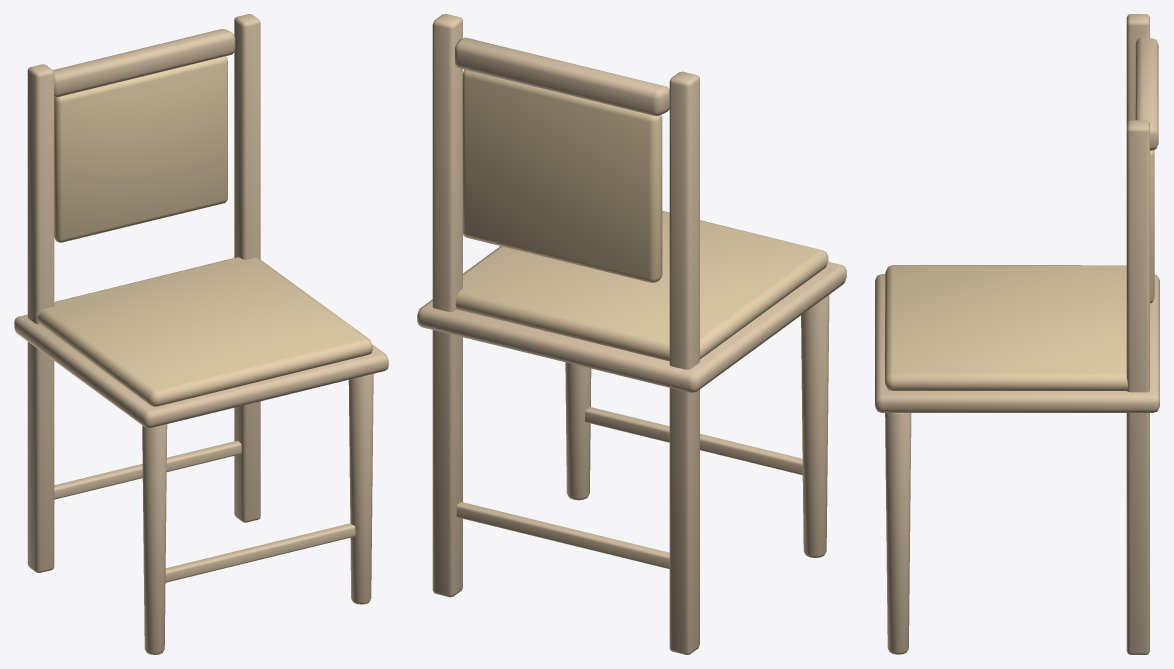
File: cadeira_fibra.glb
The picture shows the model from 3 angles, left to right: view 1: azimuth 30°, elevation 25°; view 2: azimuth 150°, elevation 25°; view 3: azimuth 270°, elevation 25°; orthographic projection. The views are drawn at different scales.
Parts seen in each view (by area): view 1: travessa; view 2: travessa; view 3: travessa.
Boxes of the visible parts, bbox=[...] form: travessa: bbox=[14, 14, 388, 654]; travessa: bbox=[417, 14, 846, 654]; travessa: bbox=[875, 14, 1159, 654].
Size of the model in its own units: 0.4501 by 0.88 by 0.4299.
